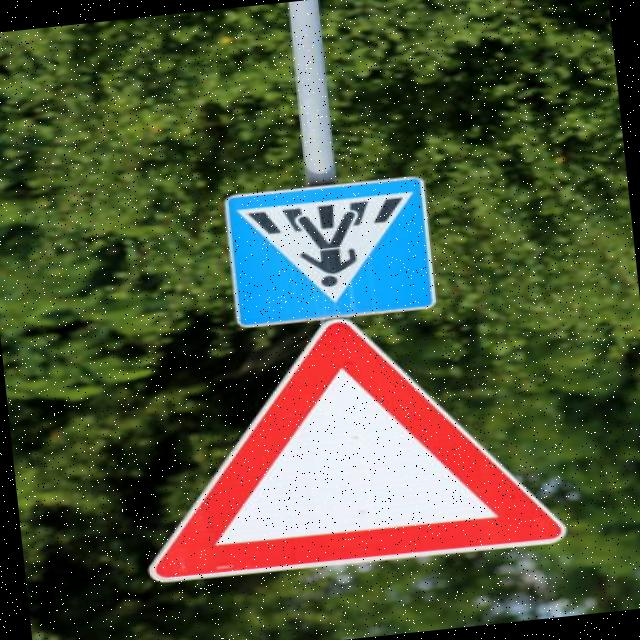crosswalk: (208, 165, 455, 334)
give_way: (111, 300, 572, 604)
